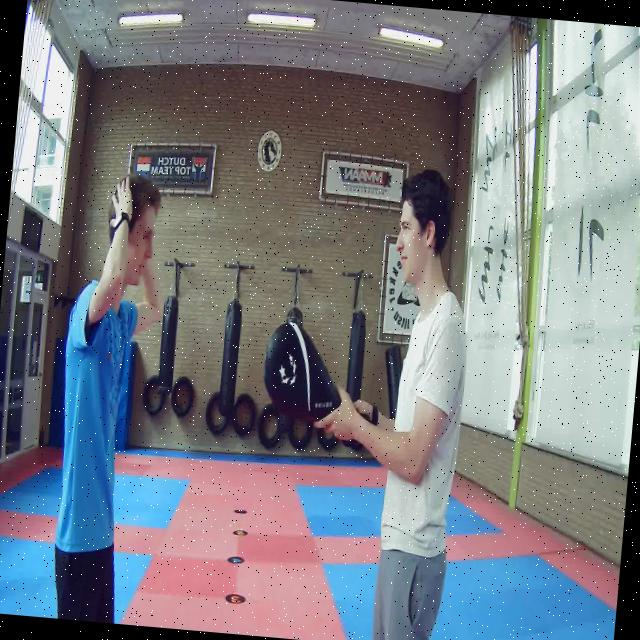paddle: (261, 319, 344, 419)
